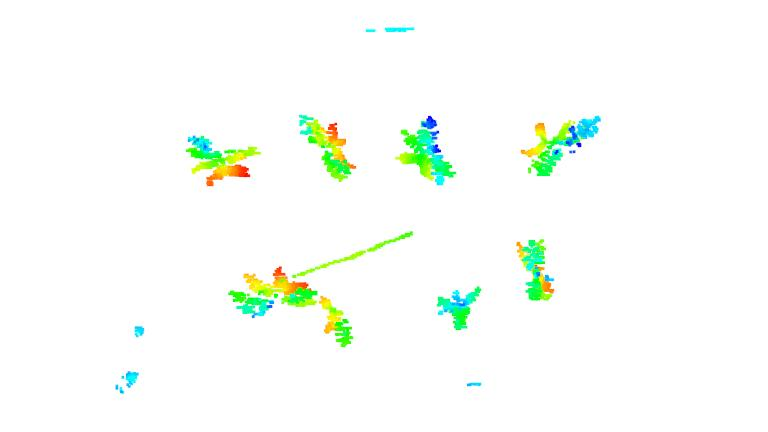chickpea: (224, 264, 320, 322), (521, 113, 608, 176), (294, 111, 359, 184), (397, 114, 459, 187), (185, 133, 262, 191), (513, 235, 558, 302), (431, 286, 484, 332), (316, 293, 353, 350)
